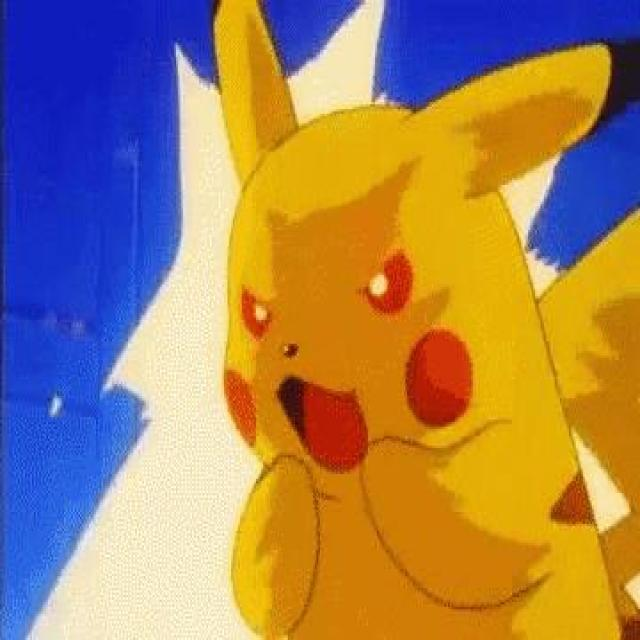pikachu: (212, 0, 640, 639)
